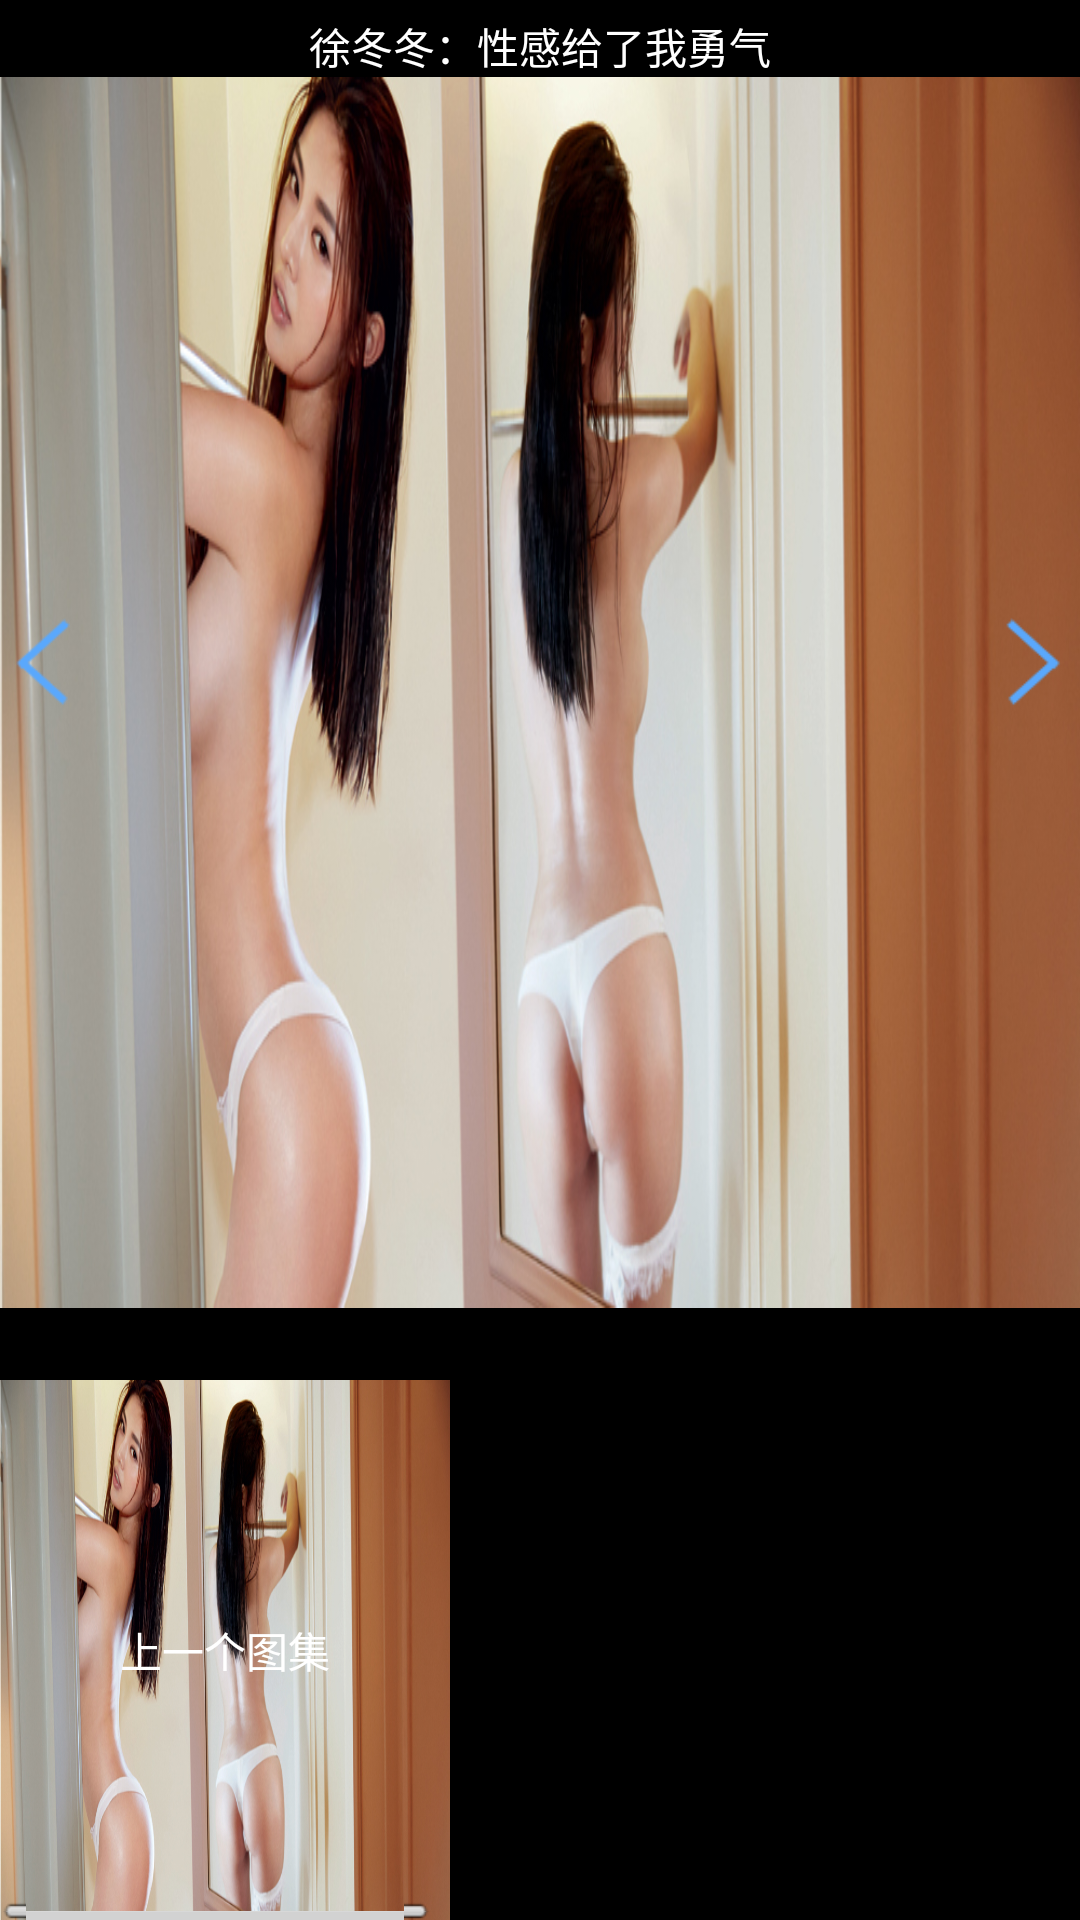

Point at icon controls on the screen. Image size 1080 x 1920, points as [x,y].
next page: [1033,661]
previous page: [34,663]
